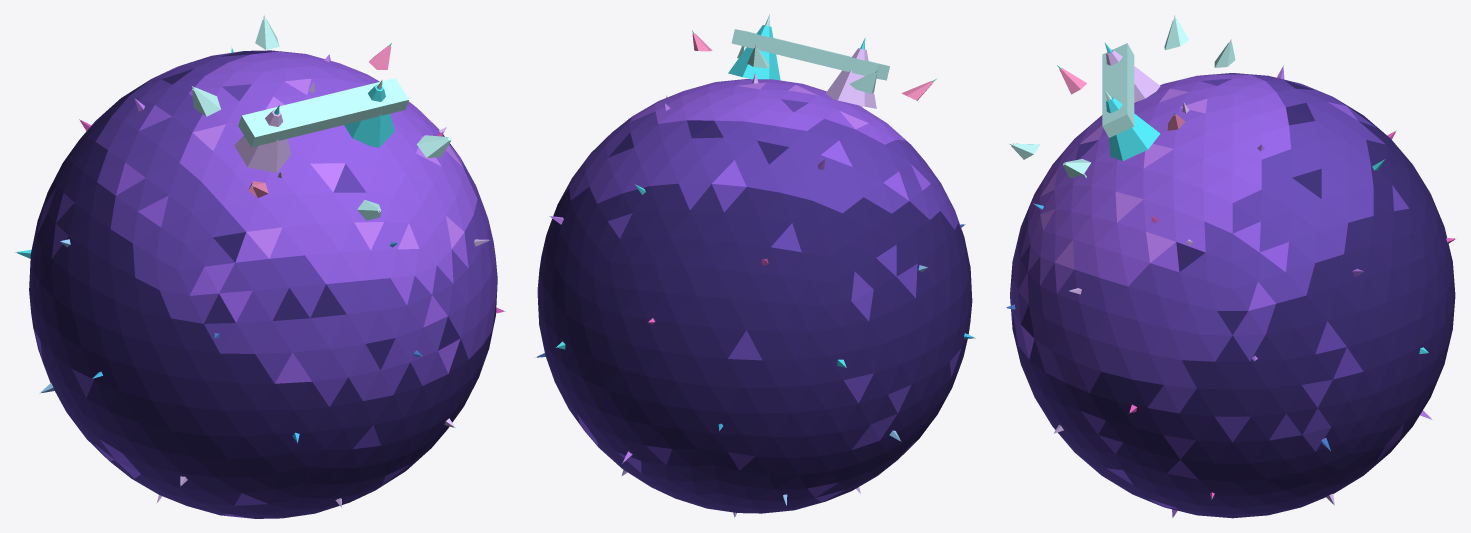
File: Crystal_03.fbx
3 views of the same model, side by side, from view 1: azimuth 30°, elevation 25°; view 2: azimuth 150°, elevation 25°; view 3: azimuth 270°, elevation 25° (orthographic). The views are drawn at different scales.
Visible parts, largest first — view 1: Crystal_03; view 2: Crystal_03; view 3: Crystal_03.
Part boxes in pixels (box(x1,y1,x2,y2)): Crystal_03: box(14, 14, 505, 518); Crystal_03: box(535, 14, 975, 517); Crystal_03: box(1006, 15, 1455, 518).
Size of the model in its own units: 6.09 by 6.88 by 6.09.
1 material, 1 textured.
